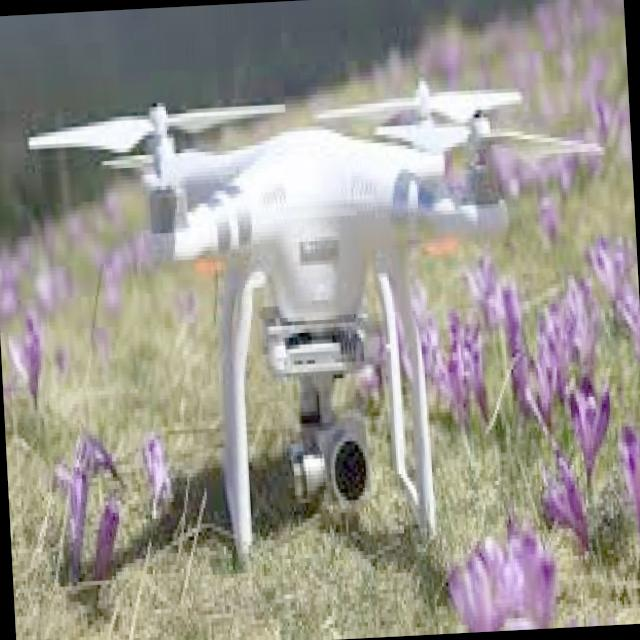drone: (15, 0, 614, 579)
